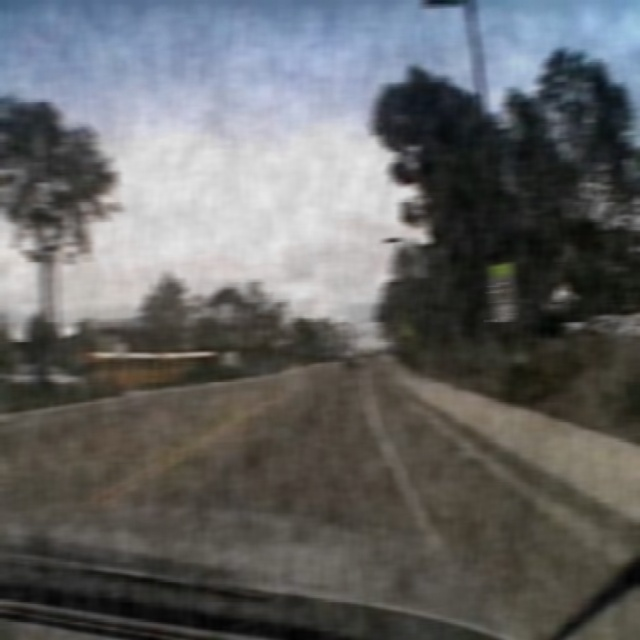schoolSpeedLimit25: (488, 260, 516, 322)
